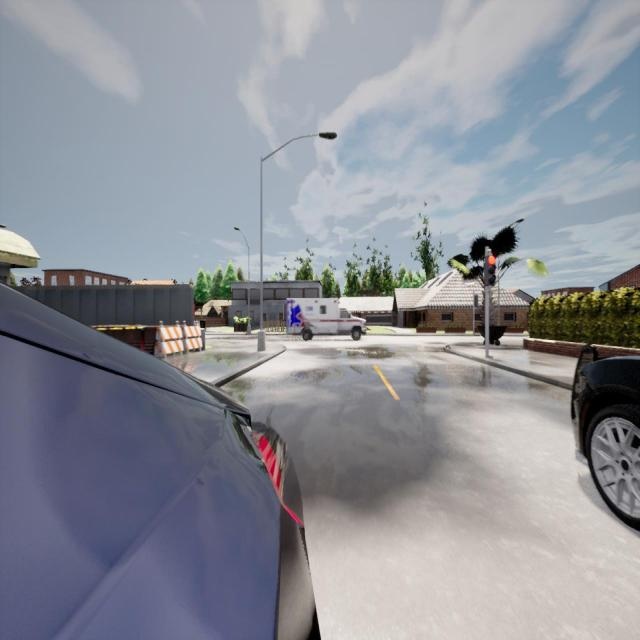Vehicle: (0, 281, 325, 639), (562, 344, 640, 530), (285, 298, 367, 341)
traffic_light: (485, 256, 496, 286)
